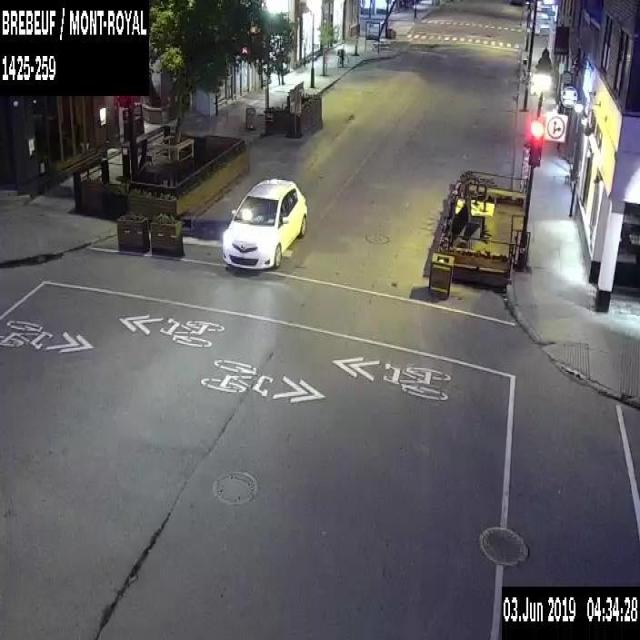vehicle: (219, 176, 307, 269)
